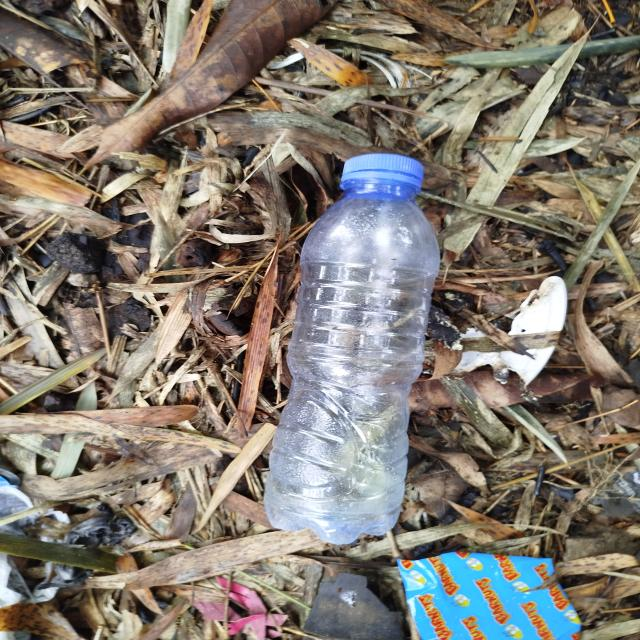plastic: (252, 146, 448, 549)
residual: (384, 538, 639, 640)
